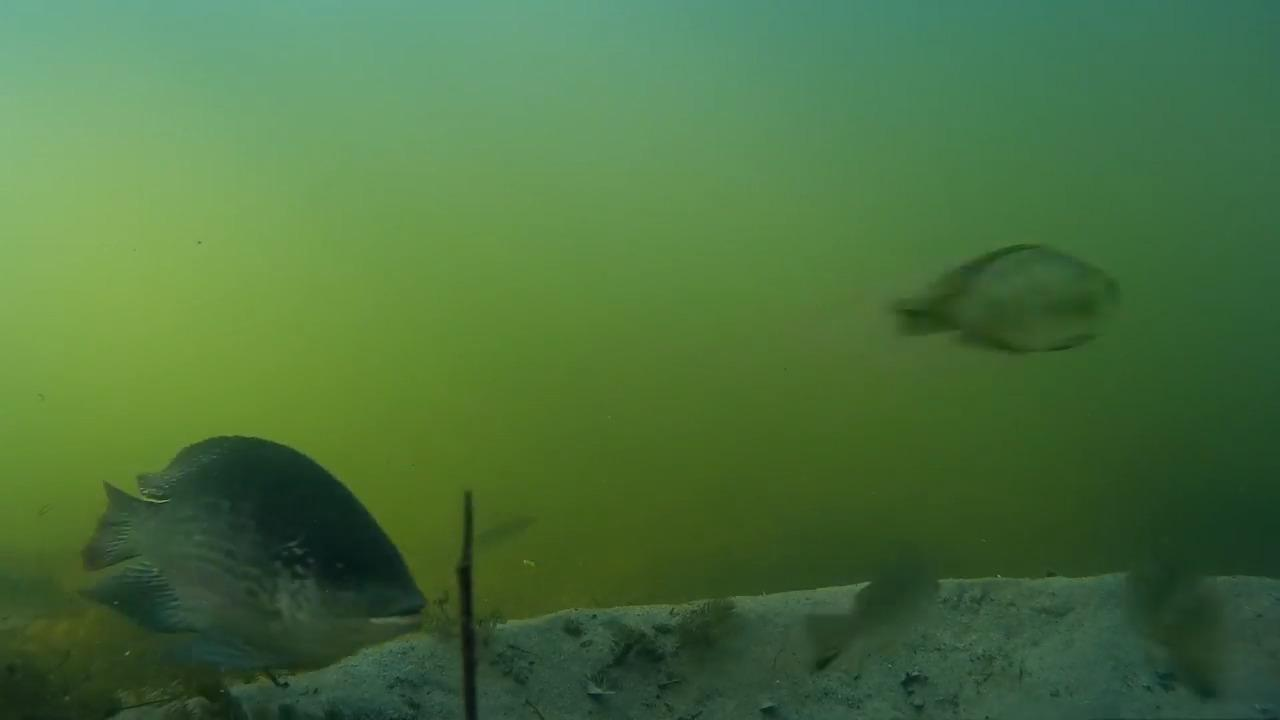Tilapia: (53, 424, 426, 662), (877, 230, 1146, 368), (785, 532, 958, 694)
